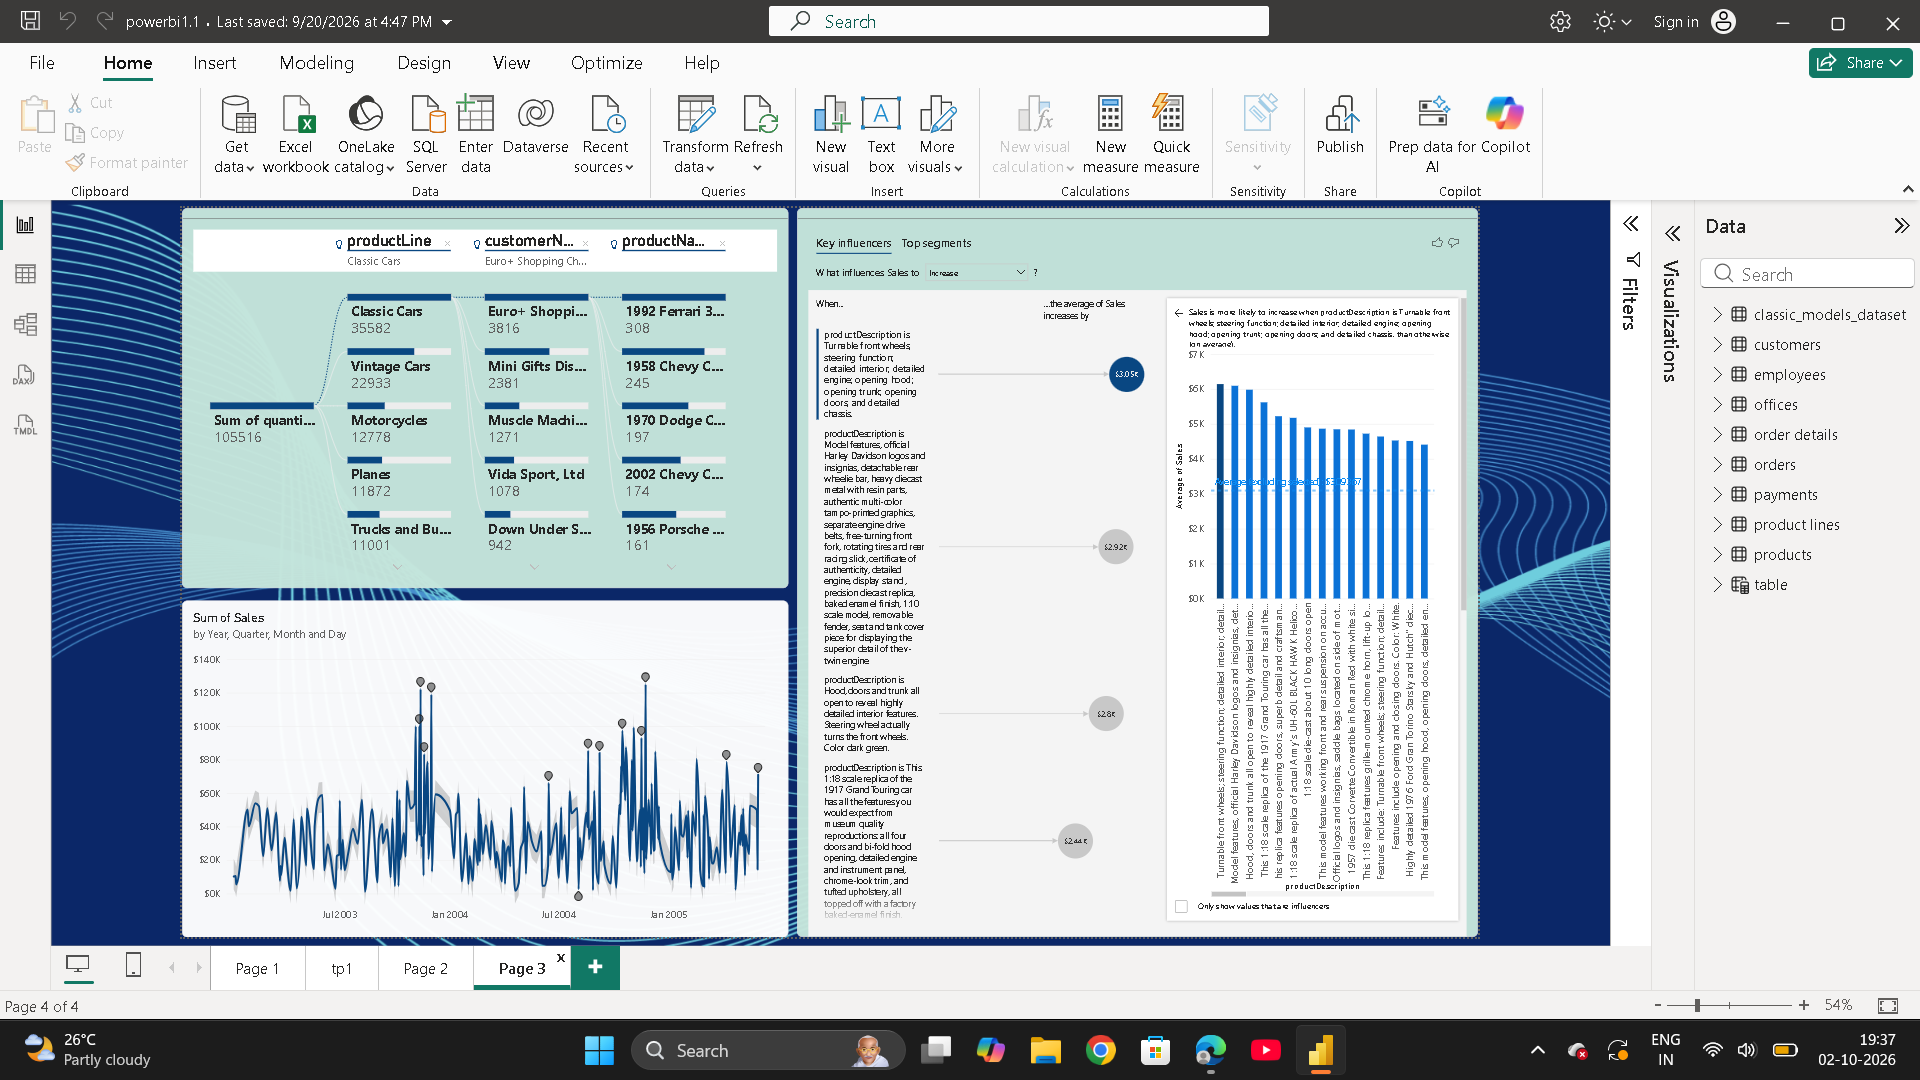

What the dashboard file says about the page in this screenshot:
{"tool":"powerbi","page":{"name":"Page 3","canvas":[1920,1080],"ordinal":3},"visuals":[{"type":"decompositionTreeVisual","fields":{"Analyze":["Sum(order details.quantityOrdered)"],"ExplainBy":["product lines.productLine","customers.customerName","products.productName"]},"box":[0,0,898.8,563.1],"z":0},{"type":"keyDriversVisual","fields":{"ExplainBy":["products.productDescription"],"Target":["order details.Sales"]},"box":[911.6,0,1008.8,1080.4],"z":1000},{"type":"lineChart","fields":{"Category":["orders.orderDate.Variation.Date Hierarchy.Year","orders.orderDate.Variation.Date Hierarchy.Quarter","orders.orderDate.Variation.Date Hierarchy.Month","orders.orderDate.Variation.Date Hierarchy.Day"],"Y":["Sum(order details.Sales)"]},"box":[0,581.5,898.8,498.9],"z":2000}]}

Visuals, with their boxes on the page's 1920x1080 design canvas (x1, y1, x2, y2). These are canvas units, not pixel positions in the 1920x1080 screenshot, which may show the page scaled, cropped or inside an application window:
decompositionTreeVisual - Sum(order details.quantityOrdered) x product lines.productLine: Rect(0, 0, 899, 563)
keyDriversVisual - products.productDescription x order details.Sales: Rect(912, 0, 1920, 1080)
lineChart - orders.orderDate.Variation.Date Hierarchy.Year x orders.orderDate.Variation.Date Hierarchy.Quarter: Rect(0, 582, 899, 1080)
